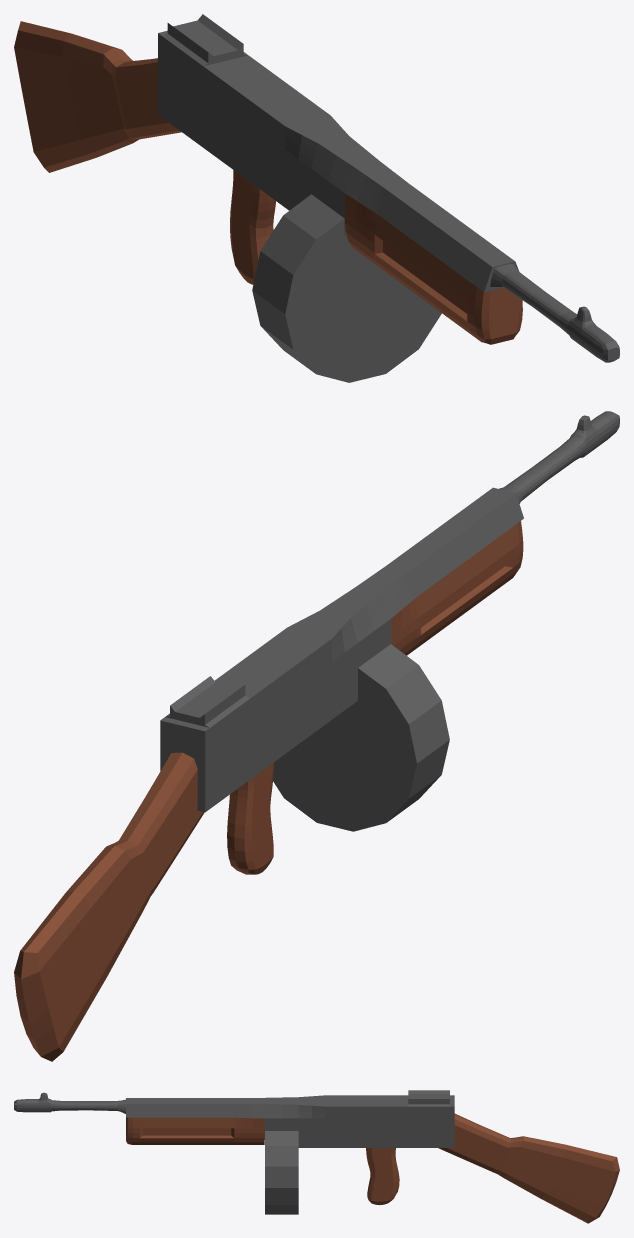
File: Tompson.fbx
The picture shows the model from 3 angles, top to bottom: view 1: azimuth 30°, elevation 25°; view 2: azimuth 150°, elevation 25°; view 3: azimuth 270°, elevation 25°; orthographic projection. The views are drawn at different scales.
Visible parts, largest first — view 1: Plane.001; view 2: Plane.001; view 3: Plane.001.
Boxes of the visible parts, <box> form: Plane.001: <box>14,14,619,382</box>; Plane.001: <box>14,411,619,1061</box>; Plane.001: <box>14,1090,619,1223</box>.
Bounding box in the file's own units: 41.52 × 61.9 × 260.
